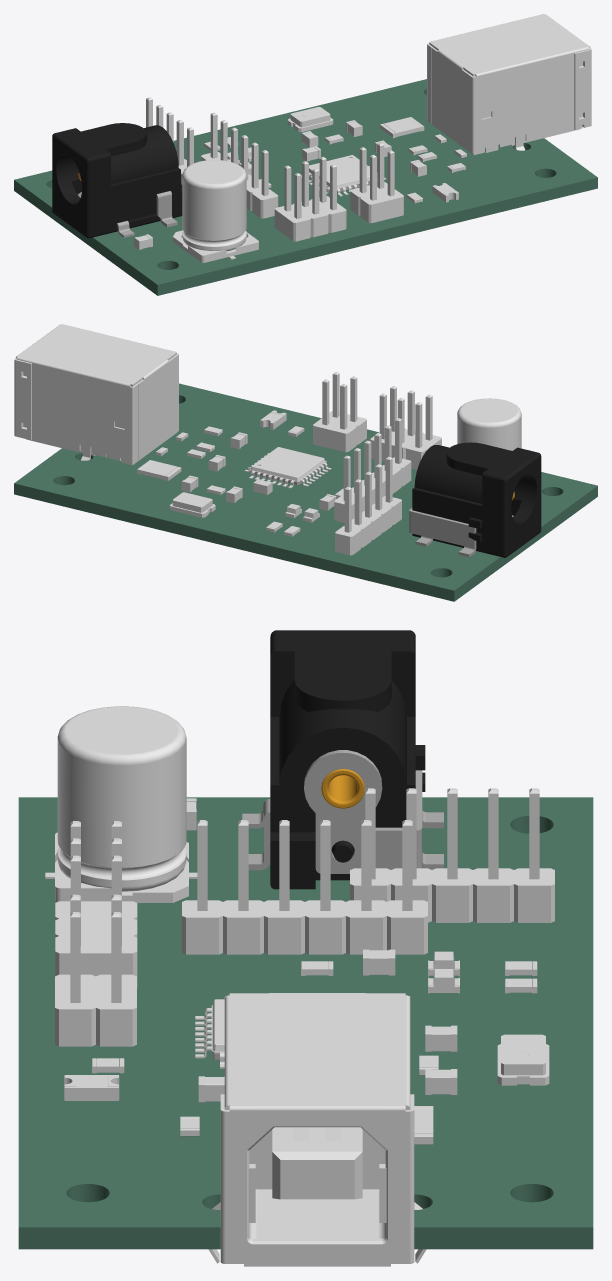
The picture shows the model from 3 angles, top to bottom: view 1: azimuth 30°, elevation 25°; view 2: azimuth 150°, elevation 25°; view 3: azimuth 270°, elevation 25°; orthographic projection. The views are drawn at different scales.
Visible parts, largest first — view 1: =>[0:1:1:17], J2, NAUO1, C1, J5, J6, J4, J3, U1, NAUO2, Y1, F1 (+1 smaller); view 2: =>[0:1:1:17], J2, NAUO1, J3, C1, J5, J6, J4, U1, NAUO4, NAUO2, Y1 (+1 smaller); view 3: =>[0:1:1:17], J2, C1, J6, NAUO1, J3, NAUO2, J4, NAUO4, J5, Y1, U1 (+5 smaller).
Boxes of the visible parts, x1,y1,x2,y2 form: =>[0:1:1:17]: (14, 79, 597, 295); J2: (427, 14, 591, 154); NAUO1: (52, 123, 170, 238); C1: (172, 160, 258, 262); J5: (274, 156, 346, 241); J6: (201, 112, 278, 218); J4: (350, 143, 403, 223); J3: (146, 97, 193, 184); U1: (301, 155, 386, 196); NAUO2: (145, 125, 182, 217); Y1: (287, 107, 333, 132); F1: (380, 117, 424, 138); =>[0:1:1:17]: (14, 383, 597, 601); J2: (14, 324, 178, 465); NAUO1: (423, 442, 541, 557); J3: (335, 456, 401, 555); C1: (457, 398, 521, 450); J5: (370, 386, 441, 469); J6: (334, 418, 411, 522); J4: (313, 372, 366, 452); U1: (244, 447, 331, 488); NAUO4: (409, 508, 476, 557); NAUO2: (412, 445, 448, 537); Y1: (169, 492, 215, 517); =>[0:1:1:17]: (18, 797, 593, 1249); J2: (208, 993, 426, 1266); C1: (45, 706, 197, 902); J6: (182, 820, 427, 954); NAUO1: (270, 630, 425, 791); J3: (350, 788, 554, 922); NAUO2: (270, 717, 415, 889); J4: (55, 894, 136, 1046); NAUO4: (304, 750, 443, 873); J5: (55, 821, 137, 988); Y1: (497, 1034, 549, 1085); U1: (195, 999, 224, 1068).
Size of the model in its own units: 0.0705 by 0.0152 by 0.0356.
